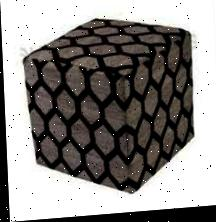cube: (22, 15, 198, 203)
